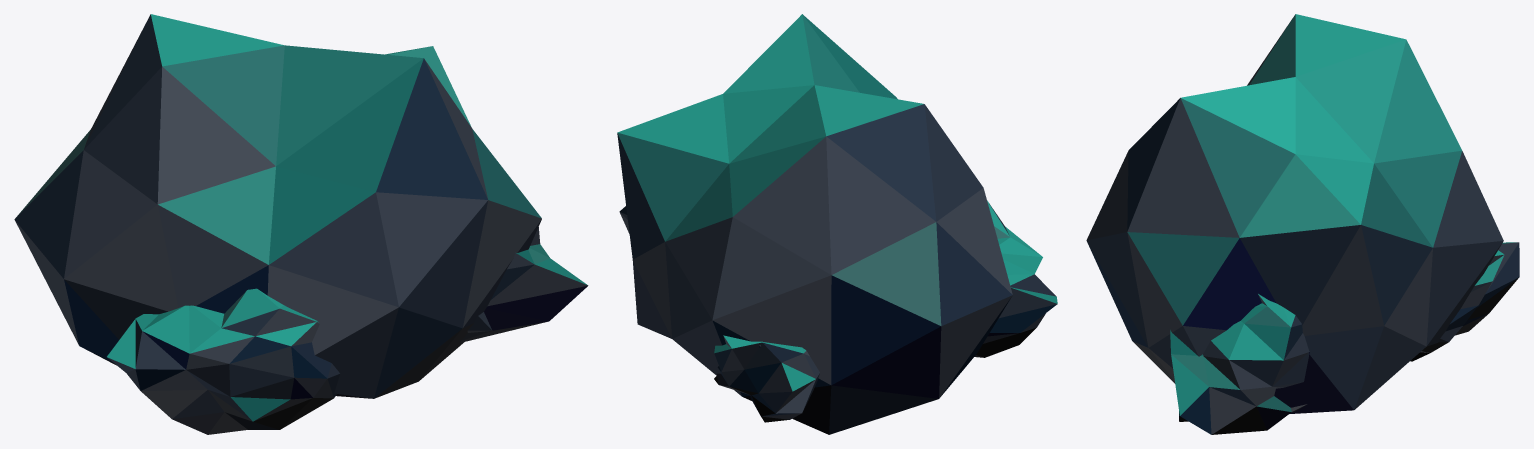
Rendered from batu_boulder_basalt_636659.glb.
The picture shows the model from 3 angles, left to right: view 1: azimuth 30°, elevation 25°; view 2: azimuth 150°, elevation 25°; view 3: azimuth 270°, elevation 25°; orthographic projection. The views are drawn at different scales.
Parts seen in each view (by area): view 1: Batu_Jeram_Sungai; view 2: Batu_Jeram_Sungai; view 3: Batu_Jeram_Sungai.
Boxes of the visible parts, x1,y1,x2,y2 form: Batu_Jeram_Sungai: (14,14,588,434); Batu_Jeram_Sungai: (617,14,1057,434); Batu_Jeram_Sungai: (1086,14,1519,434).
Bounding box in the file's own units: 6.42 × 4.4 × 5.65.
